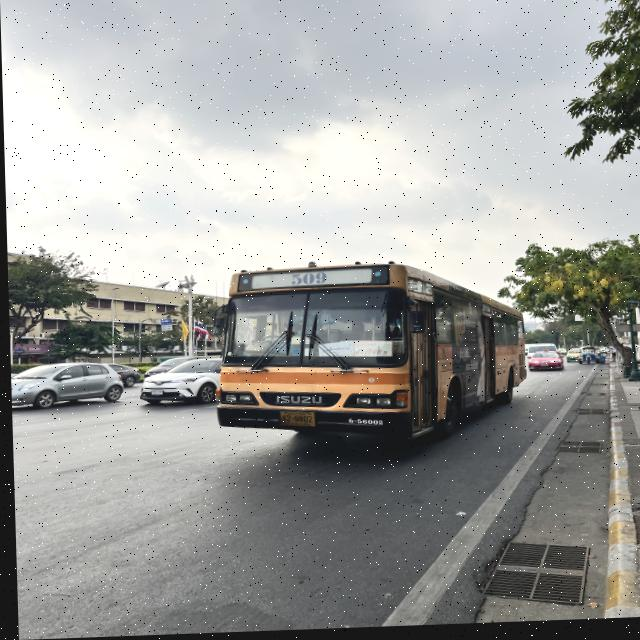BMTA-bus: (210, 261, 528, 456)
Bus-Line-Number: (286, 273, 328, 291)
Destination-Sign-Extra-Bus: (335, 341, 393, 361)
